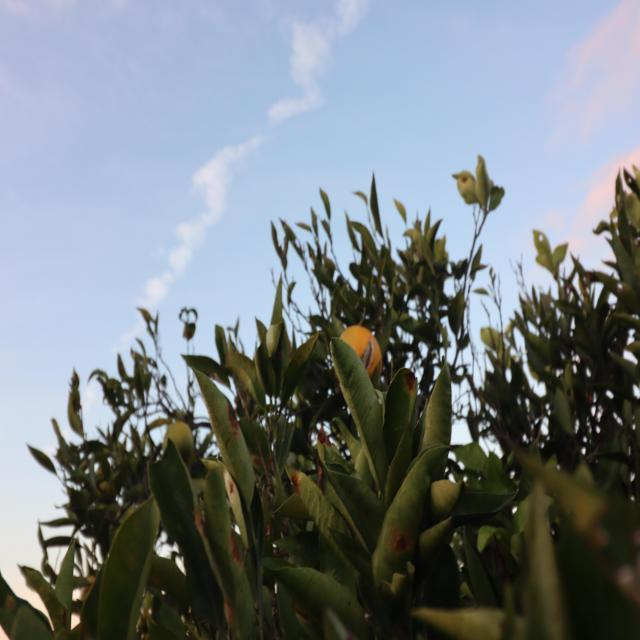Jeruk Belum Matang: (164, 422, 193, 469)
Jeruk Sudah Matang: (336, 325, 386, 397)
